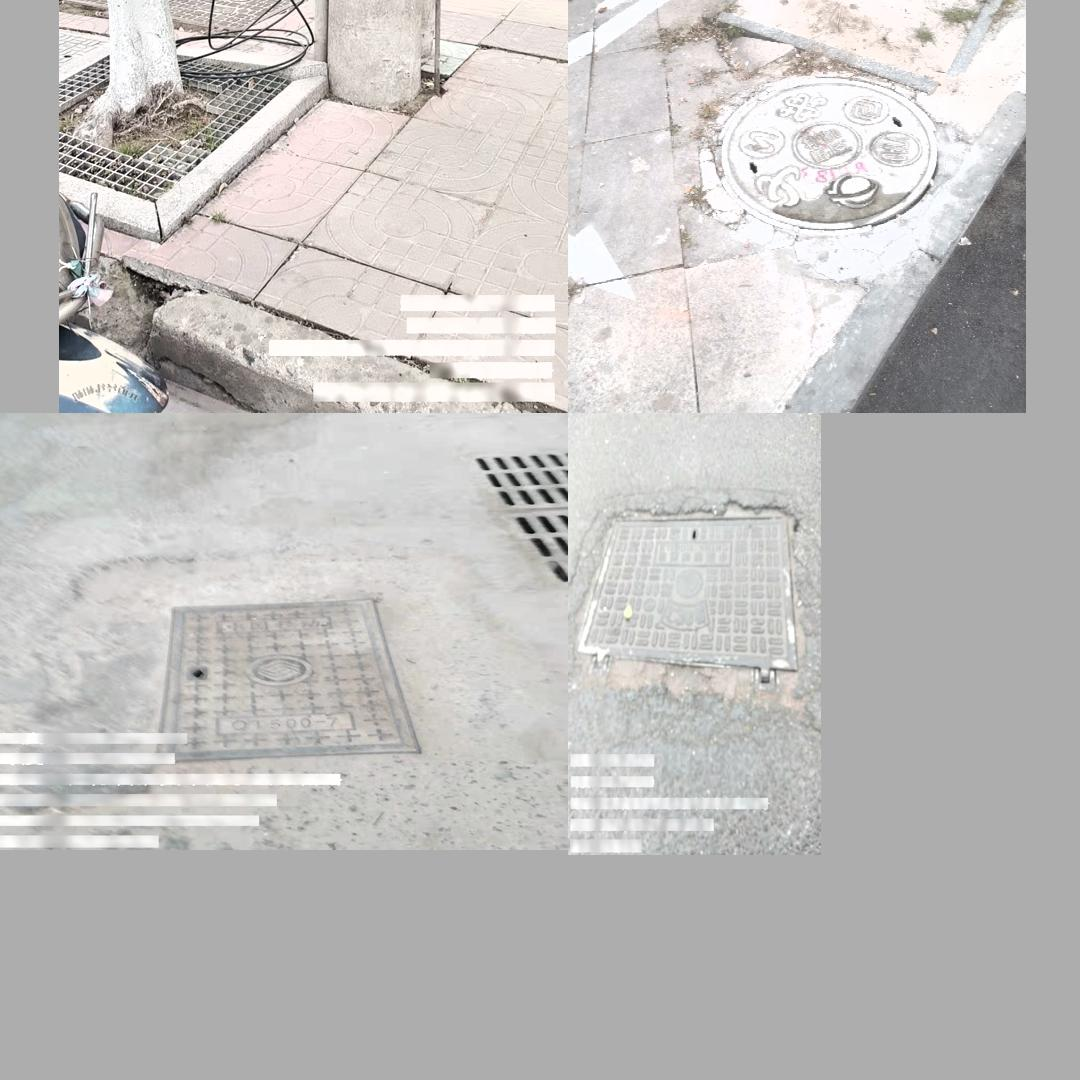good: (134, 598, 420, 760), (576, 512, 798, 689), (712, 80, 937, 233), (59, 0, 315, 34)
